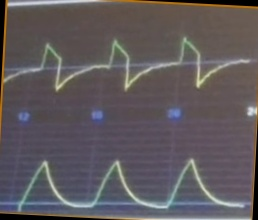Normal Flow: (5, 33, 253, 96)
Normal Volume: (15, 150, 246, 213)
